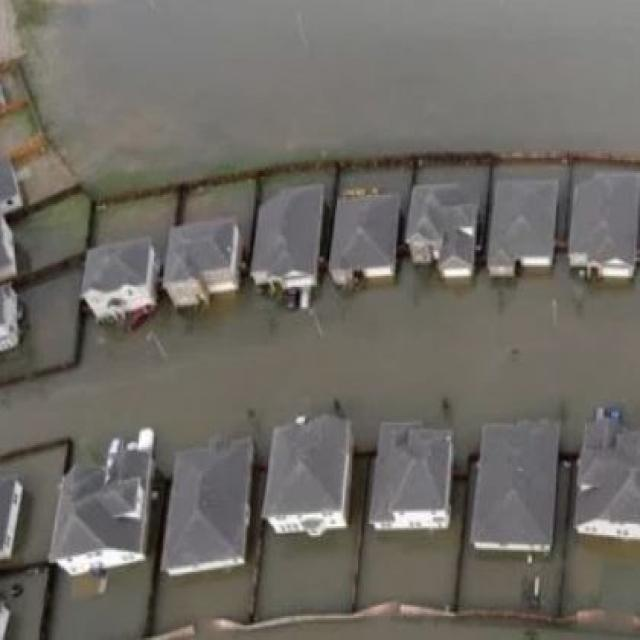flooded_areas: (0, 121, 638, 619)
